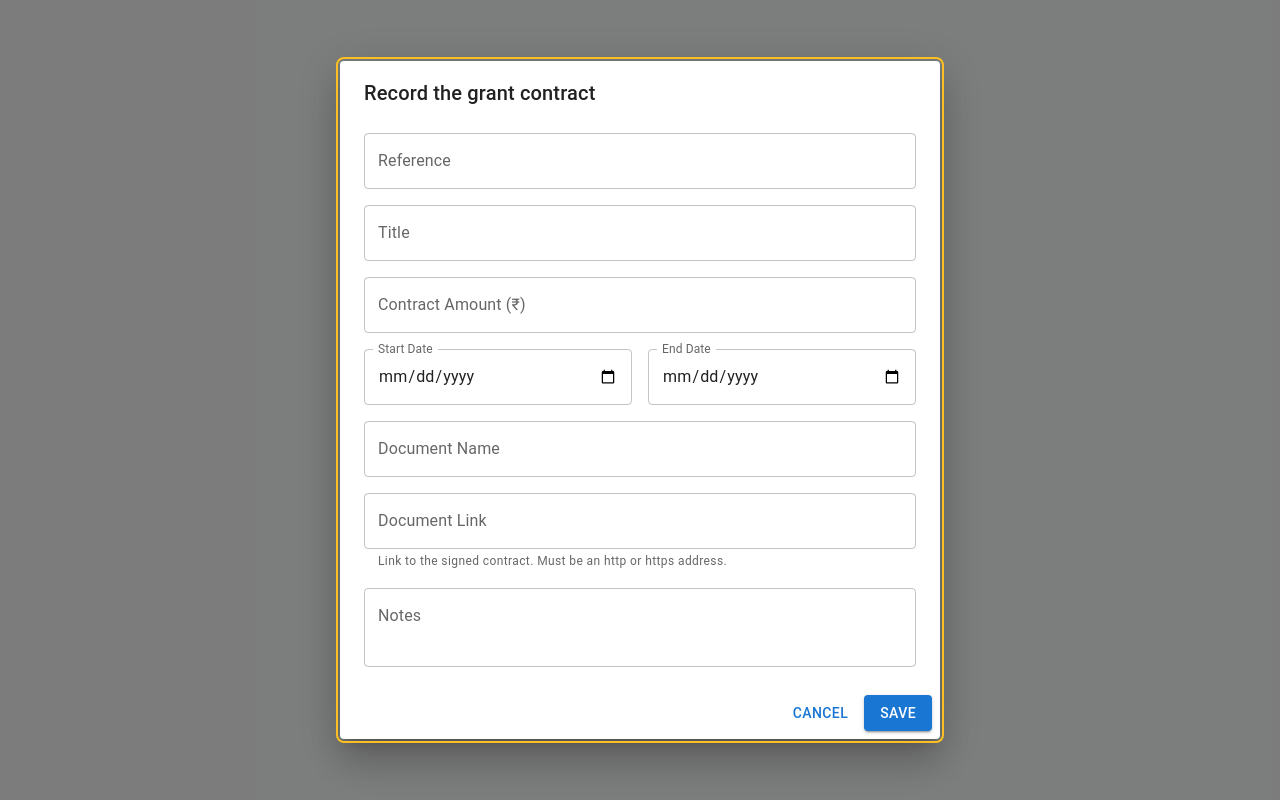
Test: a blank amount still asks for one
Type "WO-1" into the field labelled "Reference". click: {"x": 640, "y": 161}
box: [364, 133, 916, 189]
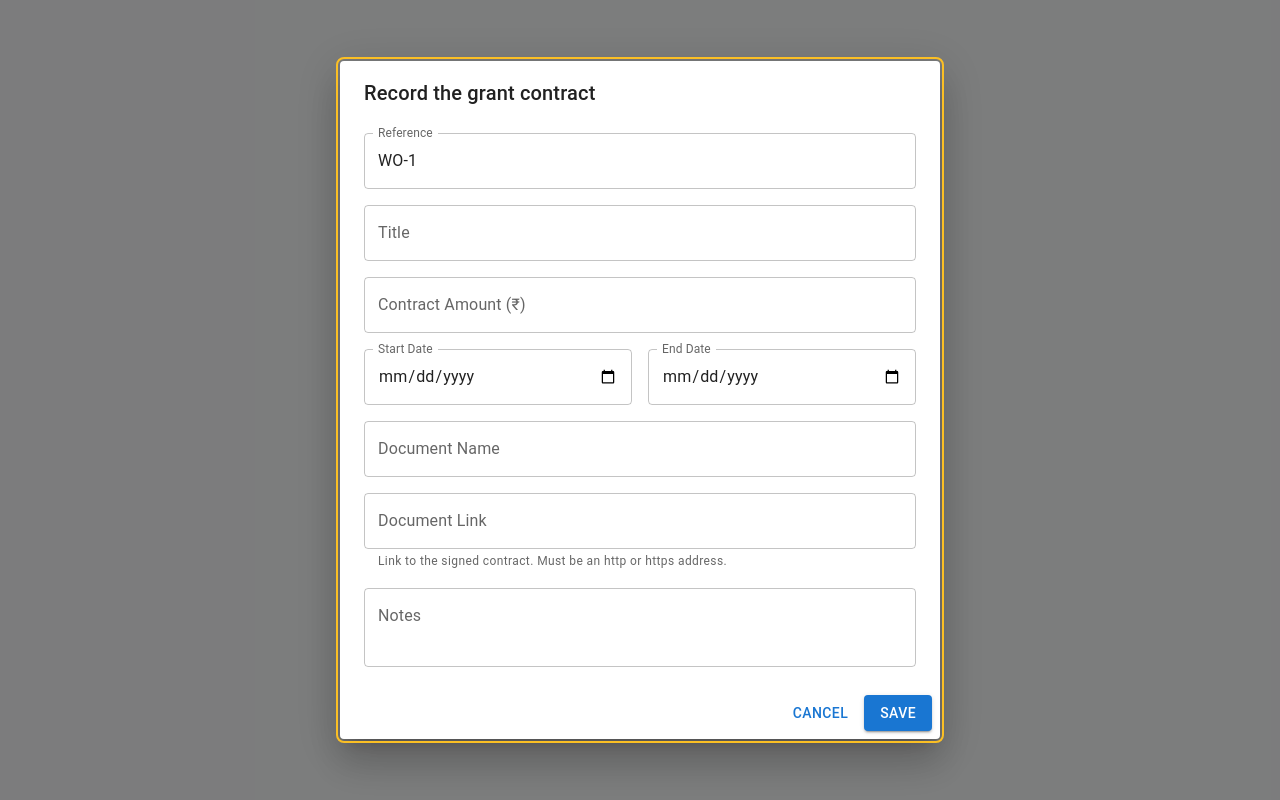
Click the button "Save". click: {"x": 898, "y": 713}
box: [864, 695, 932, 731]
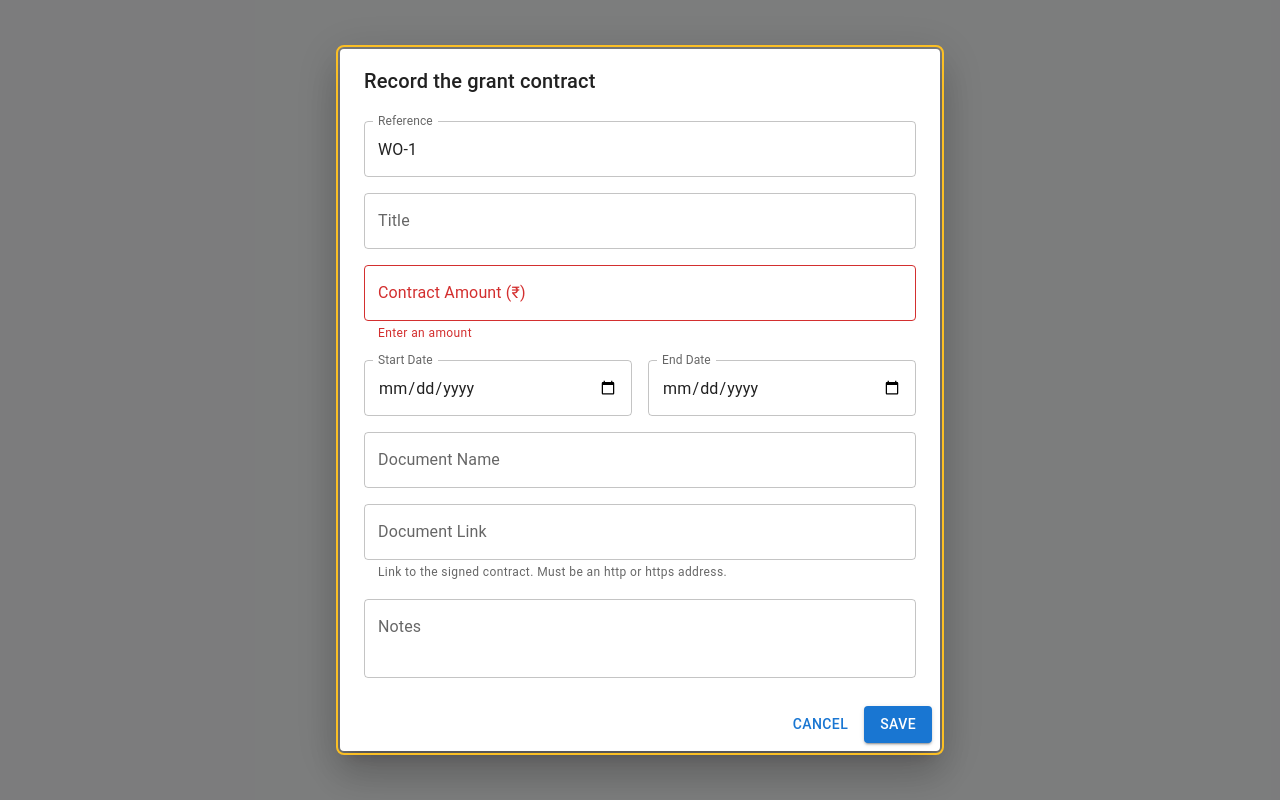
Result: the text "Enter an amount" is shown at [378, 326, 472, 340]
